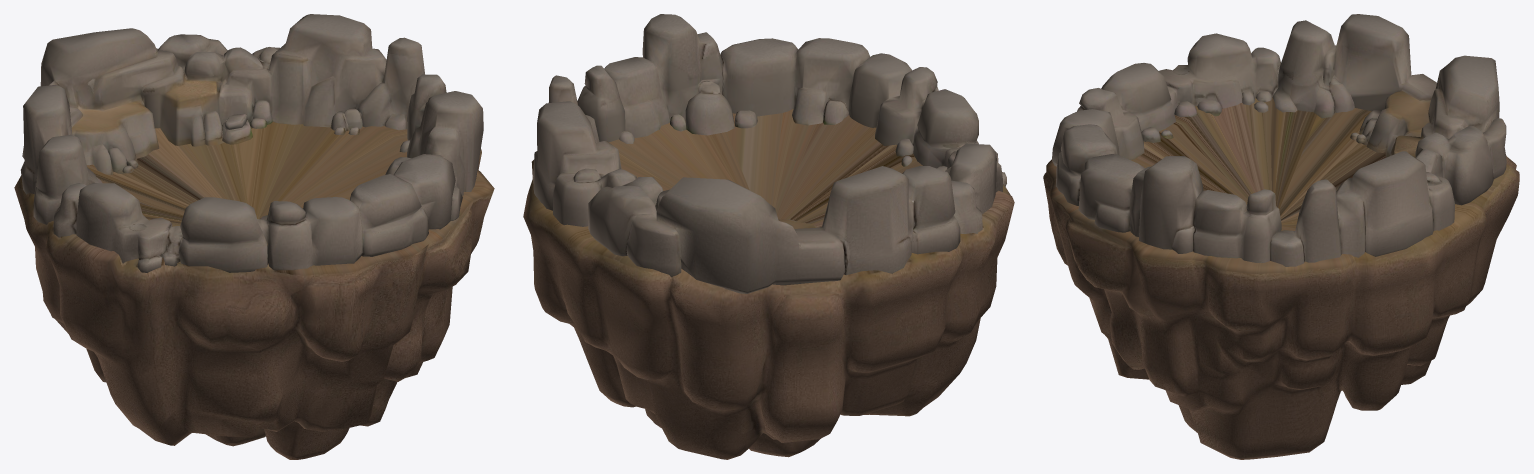
The model's file is tripo.glb.
The picture shows the model from 3 angles, left to right: view 1: azimuth 30°, elevation 25°; view 2: azimuth 150°, elevation 25°; view 3: azimuth 270°, elevation 25°; orthographic projection. The views are drawn at different scales.
Parts seen in each view (by area): view 1: environment_rocks; view 2: environment_rocks; view 3: environment_rocks.
Part boxes in pixels (x1,y1,x2,y2): environment_rocks: (14,14,494,459); environment_rocks: (523,14,1014,459); environment_rocks: (1043,14,1519,459).
Size of what is drawn, in the model's own units: 0.9995 by 0.7661 by 1.02.
Materials: 1 (1 with a texture image).
